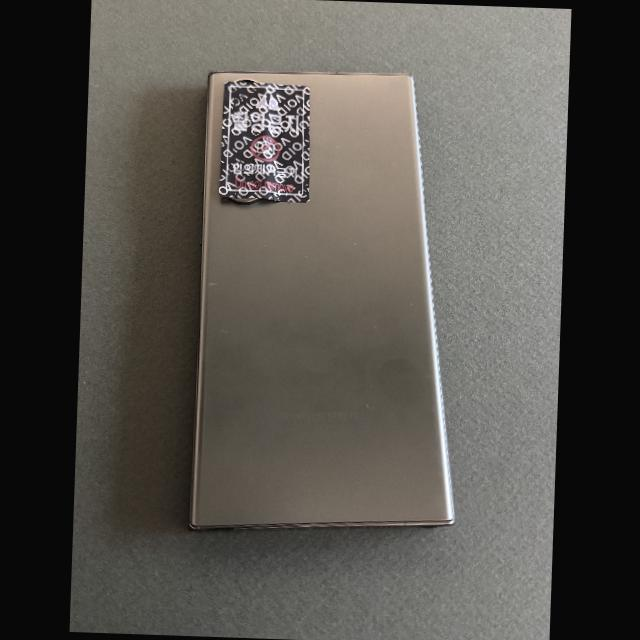lens: (233, 78, 257, 83)
phone: (190, 70, 456, 532)
sticker: (218, 81, 309, 202)
